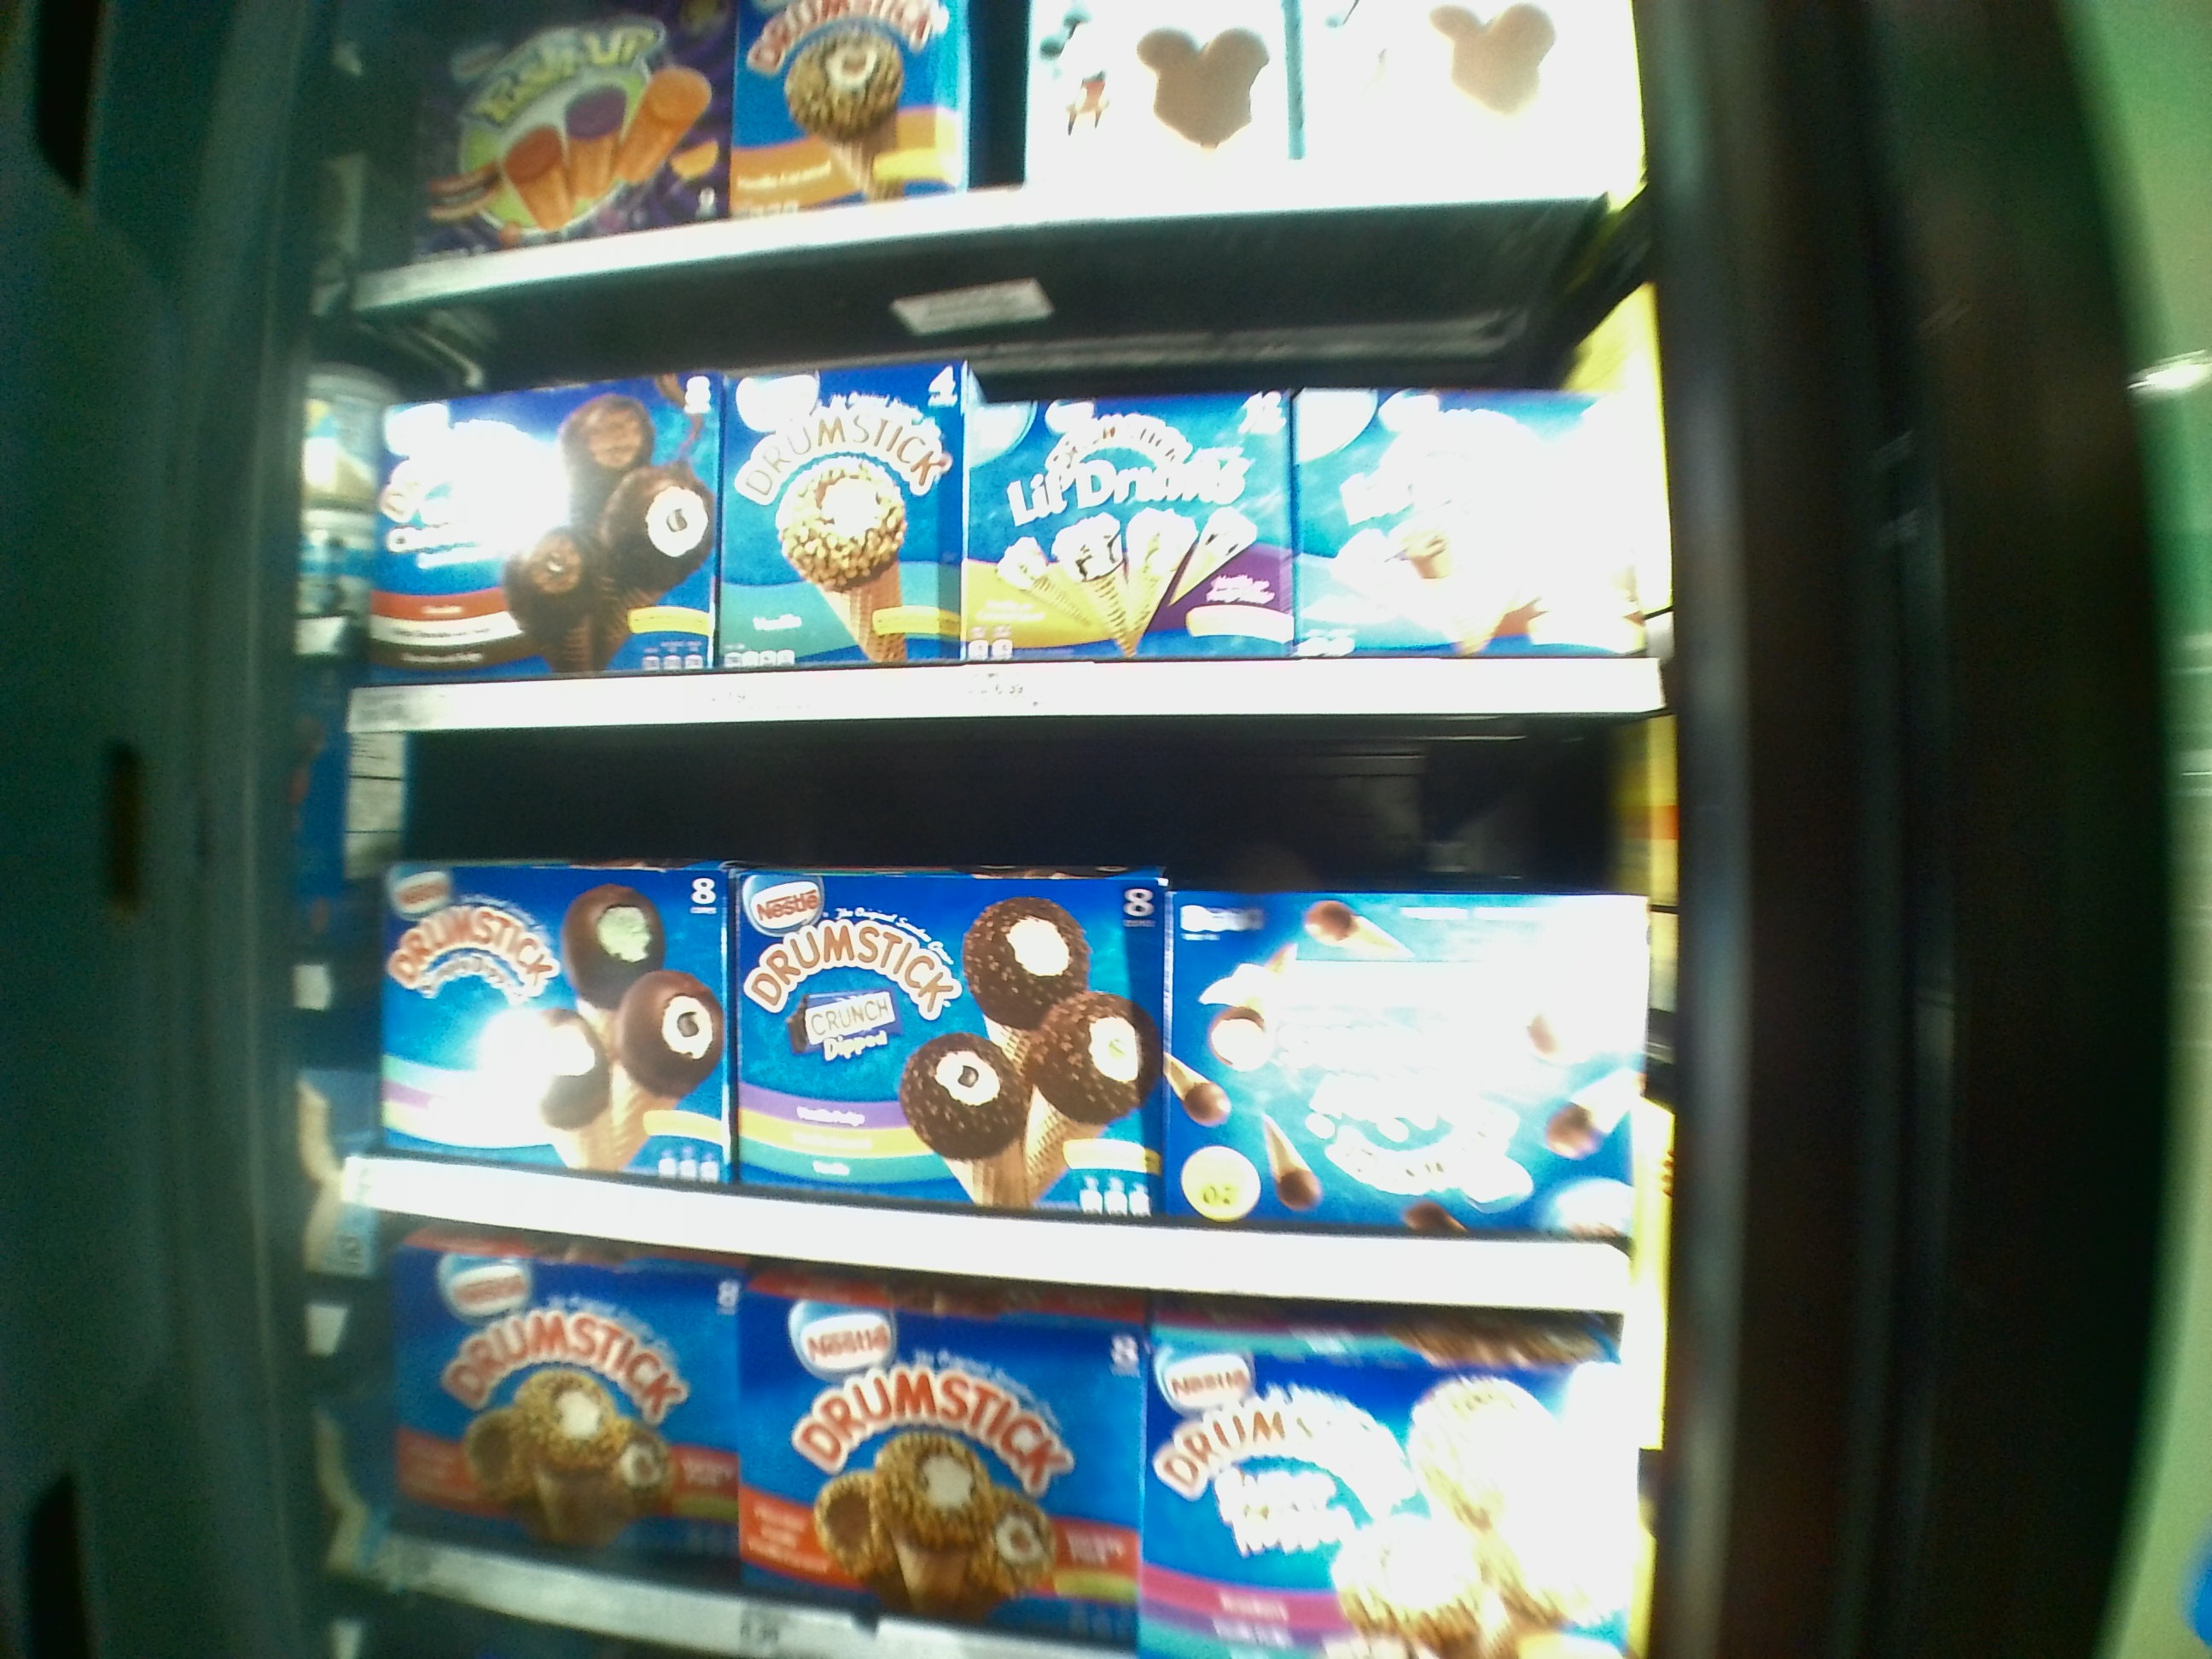shelf: (357, 737, 1653, 1305), (355, 272, 1658, 727)
